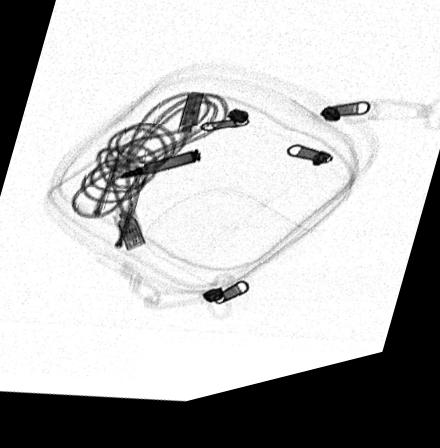Bullet: (116, 158, 201, 184)
